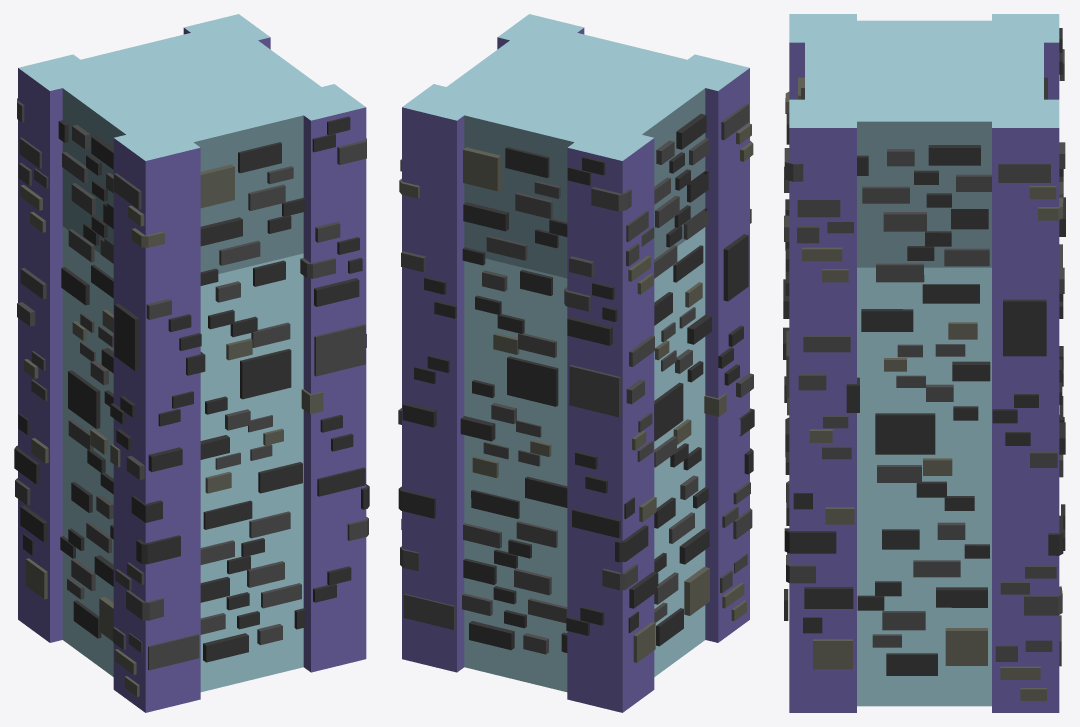
The model's file is towerSquare_middleB(+).fbx.
The picture shows the model from 3 angles, left to right: view 1: azimuth 30°, elevation 25°; view 2: azimuth 150°, elevation 25°; view 3: azimuth 270°, elevation 25°; orthographic projection. The views are drawn at different scales.
Parts seen in each view (by area): view 1: towerSquare_middleA.1; view 2: towerSquare_middleA.1; view 3: towerSquare_middleA.1.
Part boxes in pixels (x1,y1,x2,y2): towerSquare_middleA.1: [14, 14, 369, 712]; towerSquare_middleA.1: [398, 14, 754, 712]; towerSquare_middleA.1: [783, 14, 1065, 712].
Size of the model in its own units: 656 by 1497 by 656.
